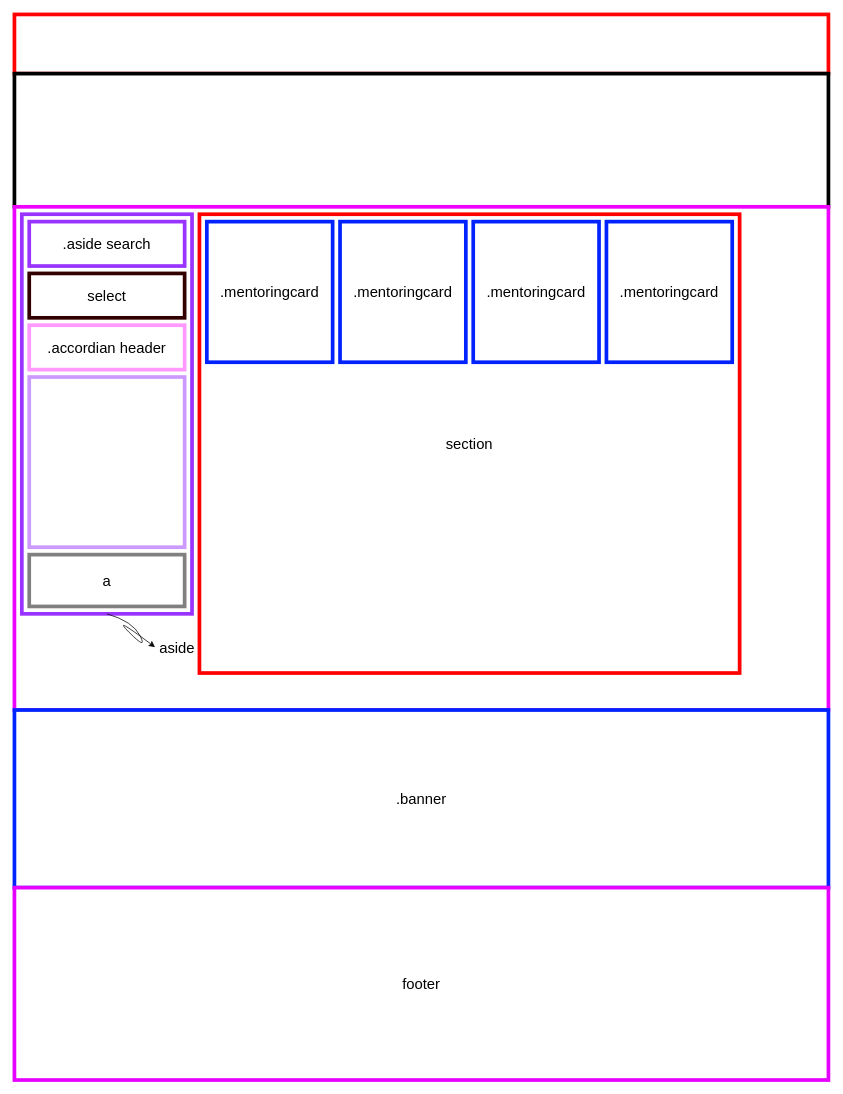
Some shapes in this 843 by 1094 pixel diagram are drawn without their labels. The shapes that lost their labels are listed below. From the top down, each one's centre as x and y in pixels, then its label:
At pixel 421 43: "header".
At pixel 421 139: ".welcome".
At pixel 106 462: ".accordian body".
